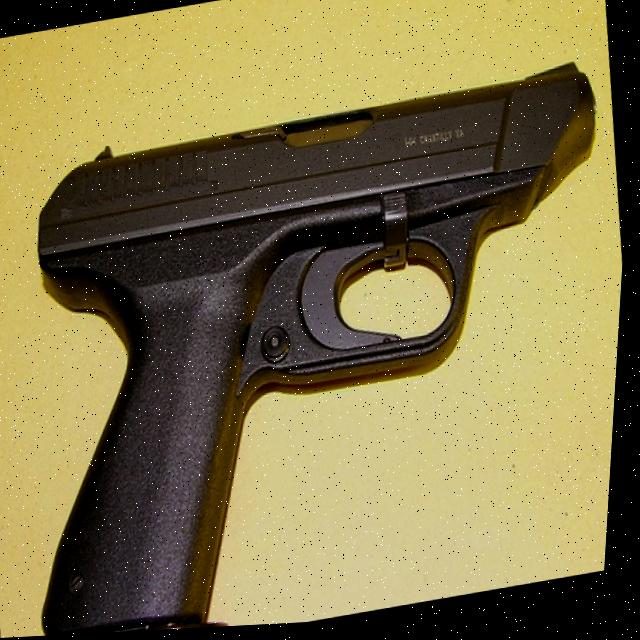pistol: (0, 58, 636, 639)
